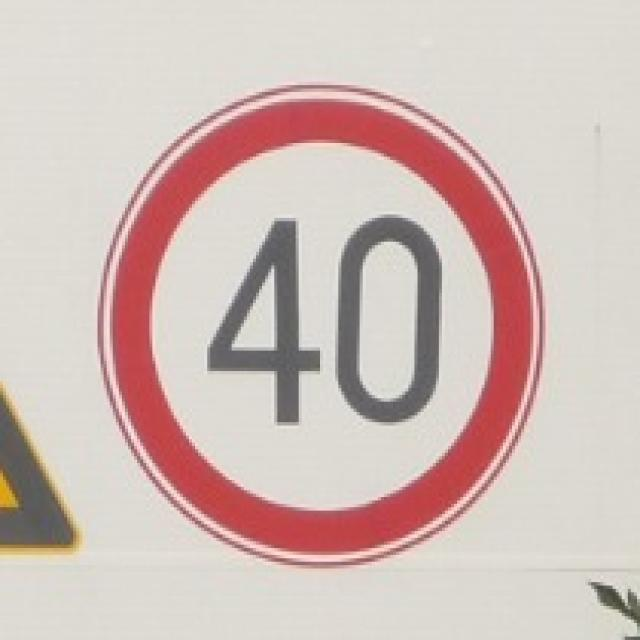Speed Limit -40-: (202, 211, 453, 436)
